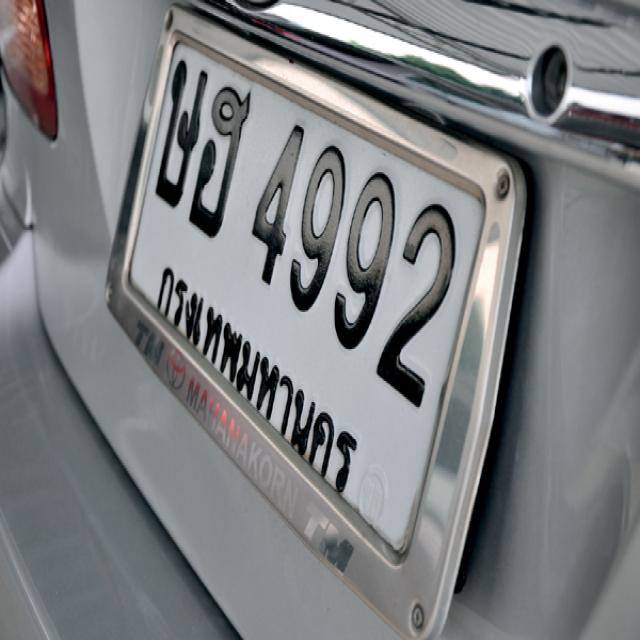plate: (96, 12, 490, 536)
